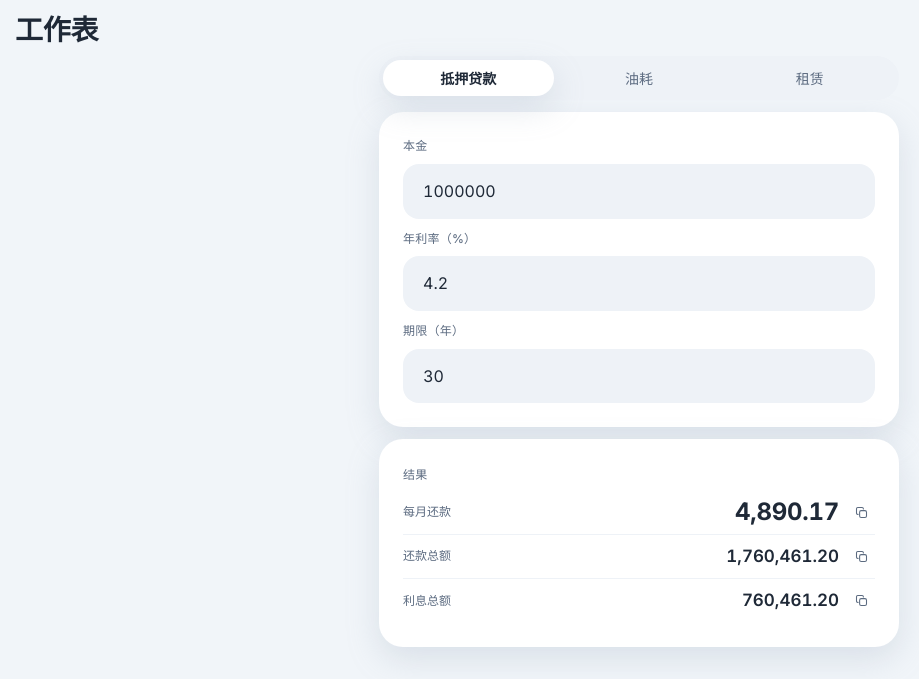
it: WorksheetsPage › shows a backend field error under the field
Click the radio button labelled "租赁". click: (810, 78)
box: top-left (724, 60), bottom-right (895, 96)
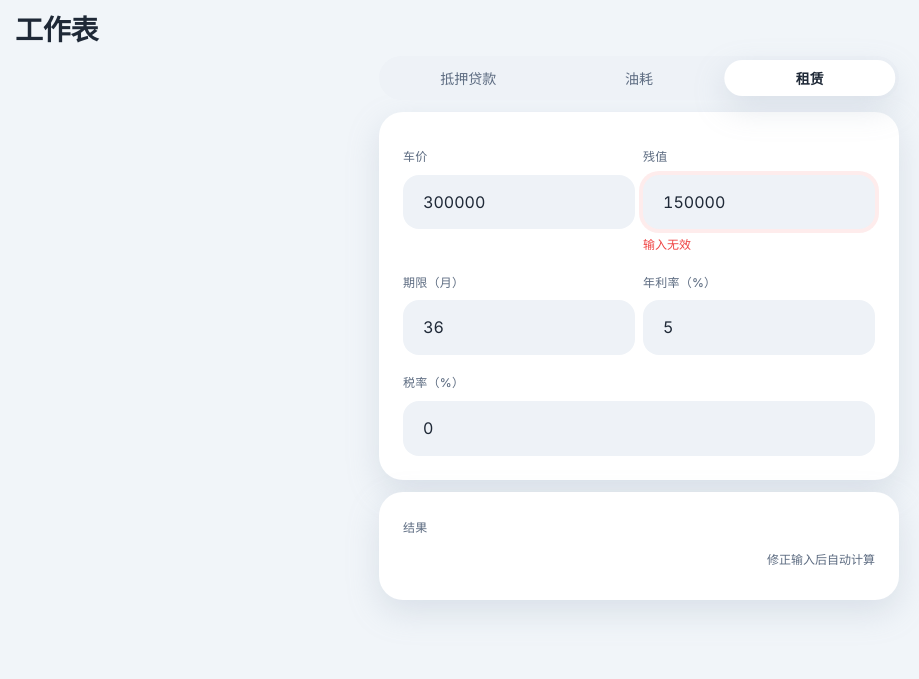
Expected: the text "输入无效" is shown, top-left (643, 237), bottom-right (691, 252)
